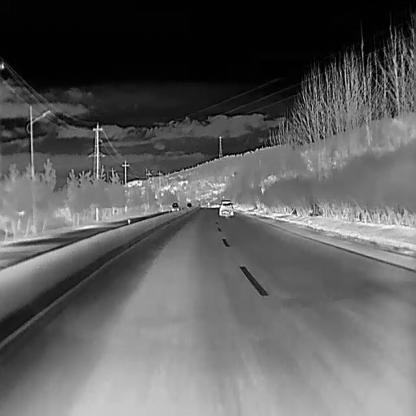car: (219, 199, 234, 216), (171, 202, 179, 211), (185, 202, 192, 208)
